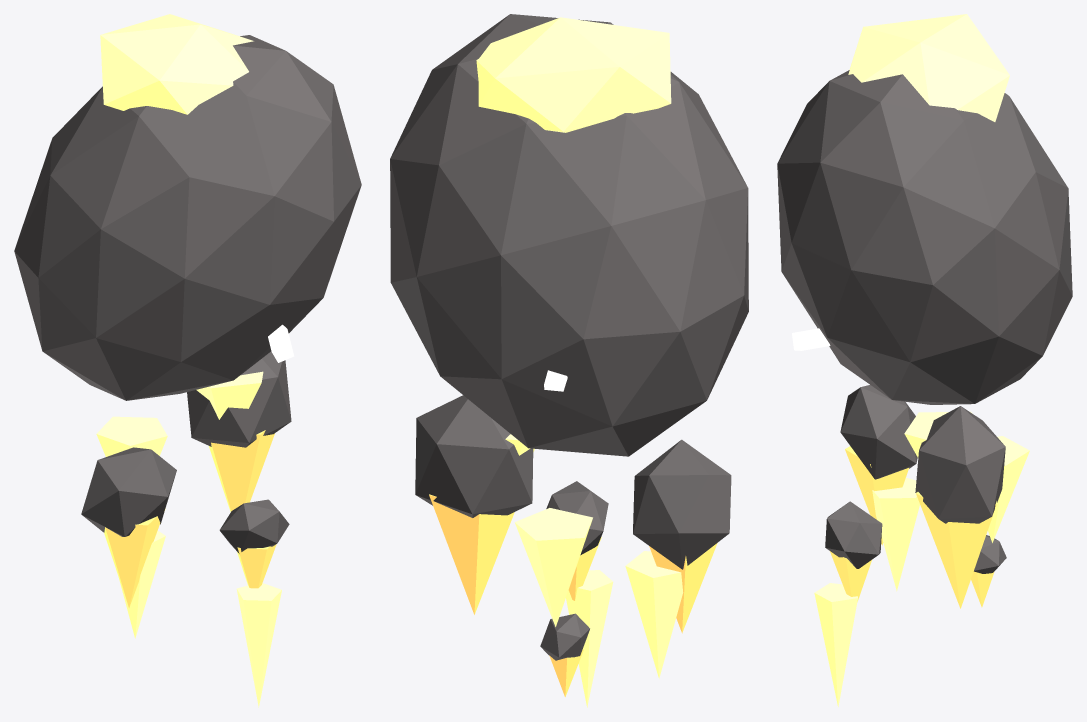
File: meteor.glb
3 views of the same model, side by side, from view 1: azimuth 30°, elevation 25°; view 2: azimuth 150°, elevation 25°; view 3: azimuth 270°, elevation 25° (orthographic). The views are drawn at different scales.
Visible parts, largest first — view 1: MeteorStone, MoltenLeadingFace, BreakawayRock_1, BreakawayRock_0, MeteorWake_3, BreakawayFlame_0, BreakawayRock_2, BreakawayFlame_1, MeteorWake_1, MeteorWake_0, MeteorWake_2, BreakawayFlame_2 (+1 smaller); view 2: MeteorStone, MoltenLeadingFace, BreakawayRock_0, BreakawayRock_1, MeteorWake_1, BreakawayFlame_0, MeteorWake_2, MeteorWake_3, BreakawayRock_2, BreakawayFlame_1, BreakawayRock_3, BreakawayFlame_3 (+1 smaller); view 3: MeteorStone, MoltenLeadingFace, BreakawayRock_0, BreakawayRock_1, BreakawayFlame_0, MeteorWake_2, MeteorWake_3, BreakawayRock_2, MeteorWake_1, BreakawayFlame_1, BreakawayFlame_2, MeteorWake_0 (+2 smaller).
Boxes of the visible parts, box(x1,y1,x2,y2) form: MeteorStone: box(14, 35, 361, 400); MoltenLeadingFace: box(100, 14, 253, 114); BreakawayRock_1: box(81, 447, 176, 536); BreakawayRock_0: box(187, 351, 291, 447); MeteorWake_3: box(236, 583, 281, 707); BreakawayFlame_0: box(209, 430, 274, 511); BreakawayRock_2: box(219, 499, 289, 553); BreakawayFlame_1: box(104, 508, 165, 607); MeteorWake_1: box(96, 416, 167, 456); MeteorWake_0: box(196, 371, 263, 419); MeteorWake_2: box(119, 530, 165, 638); BreakawayFlame_2: box(237, 544, 276, 588); MeteorStone: box(390, 14, 748, 456); MoltenLeadingFace: box(476, 17, 671, 132); BreakawayRock_0: box(415, 395, 533, 517); BreakawayRock_1: box(633, 439, 731, 569); MeteorWake_1: box(514, 508, 592, 626); BreakawayFlame_0: box(429, 494, 514, 614); MeteorWake_2: box(625, 551, 683, 678); MeteorWake_3: box(566, 570, 613, 707); BreakawayRock_2: box(546, 481, 608, 555); BreakawayFlame_1: box(649, 543, 717, 633); BreakawayRock_3: box(540, 613, 589, 660); BreakawayFlame_3: box(549, 648, 583, 696); MeteorStone: box(777, 70, 1072, 404); MoltenLeadingFace: box(848, 14, 1009, 121); BreakawayRock_0: box(915, 406, 1005, 523); BreakawayRock_1: box(840, 385, 917, 479); BreakawayFlame_0: box(916, 492, 996, 608); MeteorWake_2: box(872, 477, 919, 591); MeteorWake_3: box(814, 583, 857, 706); BreakawayRock_2: box(825, 501, 882, 568); MeteorWake_1: box(988, 436, 1029, 542); BreakawayFlame_1: box(845, 446, 908, 545); BreakawayFlame_2: box(830, 551, 871, 601); MeteorWake_0: box(904, 411, 972, 457).
Size of the model in its own units: 0.9947 by 2.04 by 0.8295.
